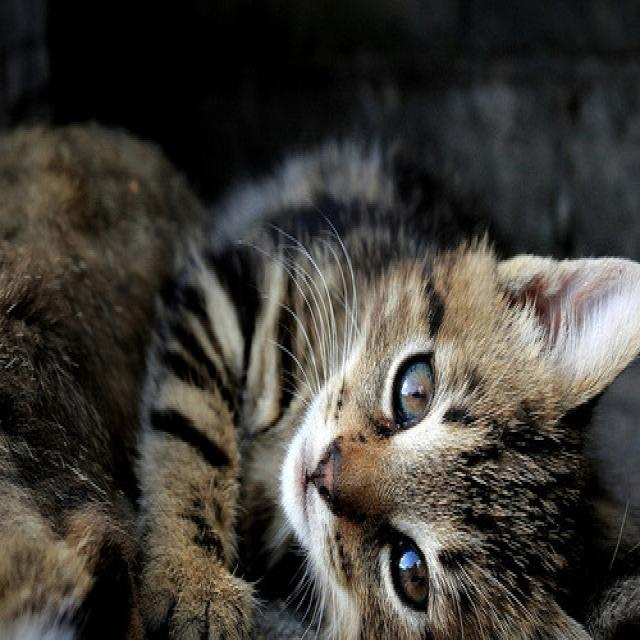cat: (100, 86, 640, 640)
